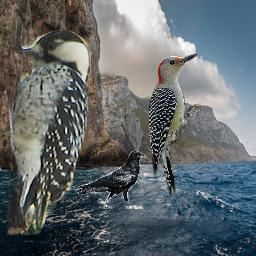Crow: (75, 151, 147, 209)
Woodpecker: (7, 29, 91, 235), (149, 50, 202, 202)
